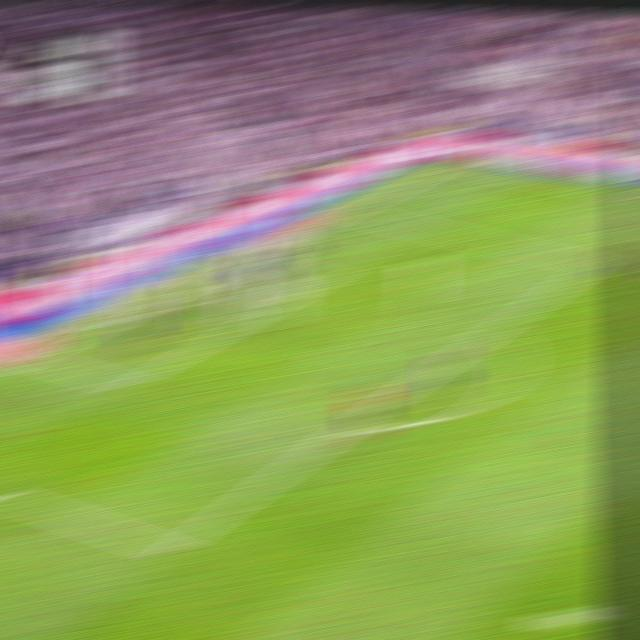bigarea_bottom_inner: (153, 536, 189, 565)
bigarea_top_inner: (579, 255, 611, 273)
bottom_arc_area_intersection: (333, 420, 363, 436)
smallarea_bottom_inner: (111, 375, 142, 395)
smallarea_bottom_outter: (24, 354, 54, 366)
smallarea_top_inner: (315, 271, 344, 285)
top_arc_area_intersection: (478, 321, 510, 339)
